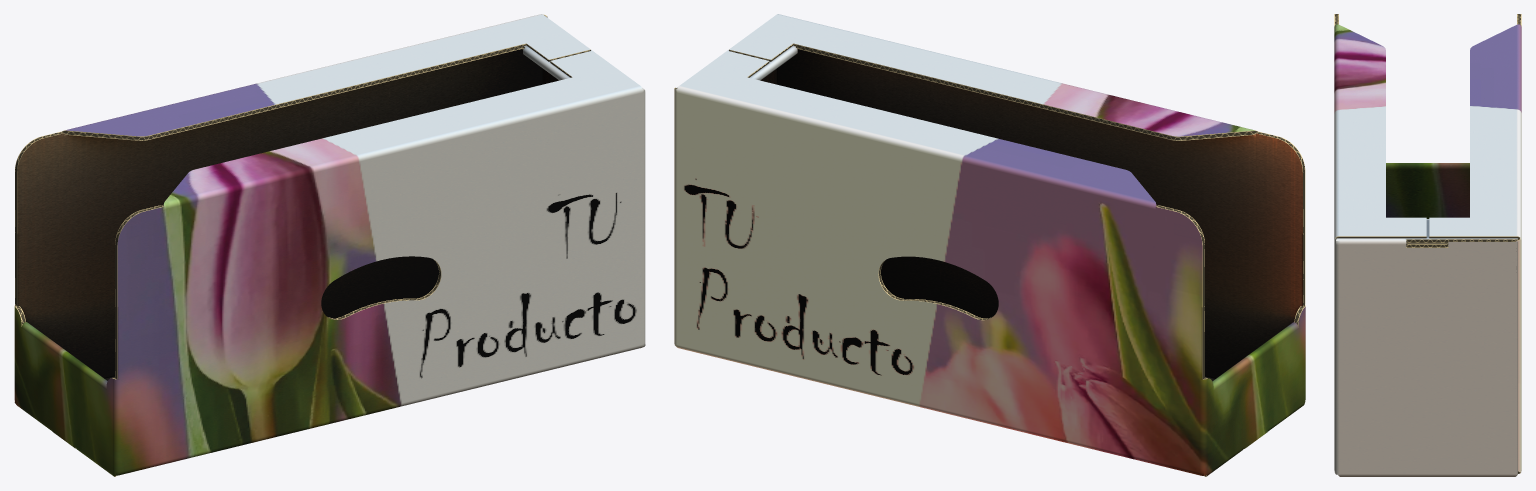
The model's file is PROSUR.glb.
3 views of the same model, side by side, from view 1: azimuth 30°, elevation 25°; view 2: azimuth 150°, elevation 25°; view 3: azimuth 270°, elevation 25° (orthographic). The views are drawn at different scales.
Visible parts, largest first — view 1: TQ_ARD-node; view 2: TQ_ARD-node; view 3: TQ_ARD-node.
Part boxes in pixels (<box>): TQ_ARD-node: <box>14,14,645,476</box>; TQ_ARD-node: <box>674,14,1305,476</box>; TQ_ARD-node: <box>1334,14,1521,476</box>.
Bounding box in the file's own units: 0.3982 × 0.1887 × 0.1332.
Materials: 3 (3 with a texture image).
